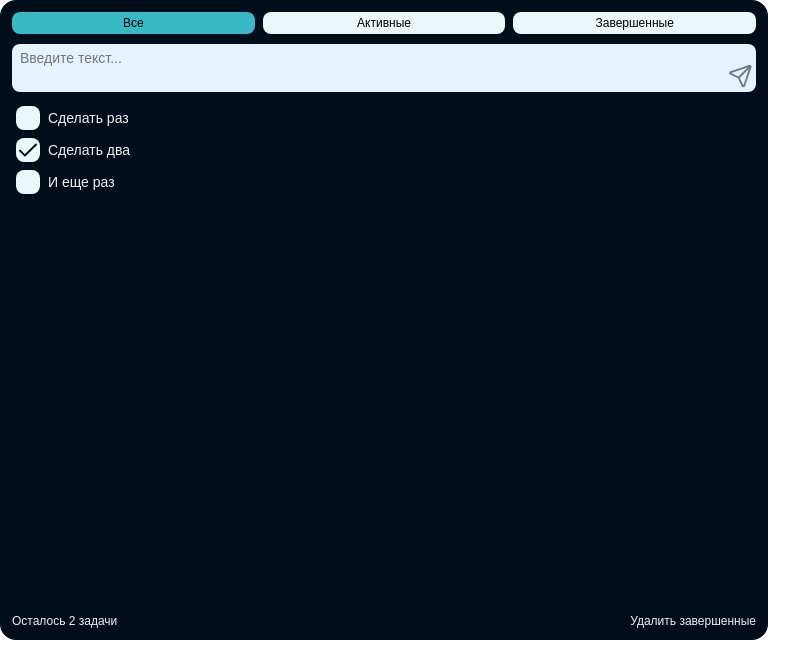
Test: Todo App › добавляет новую задачу в список через форму
In the text box with placeholder "Введите текст...": (369, 68) [12,44,725,92], type "Сделать тестовое"
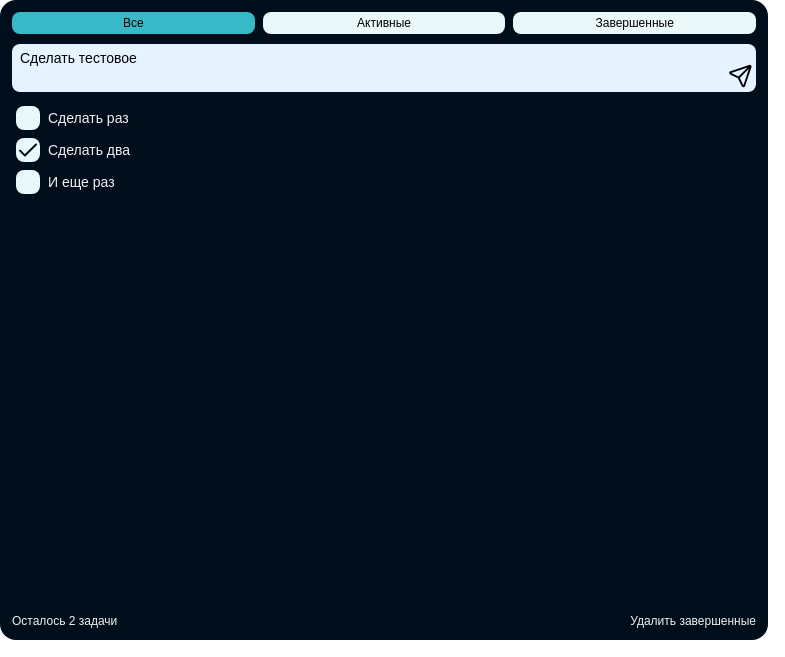
Click the button named "создать задачу": (741, 76) [725,60,756,92]
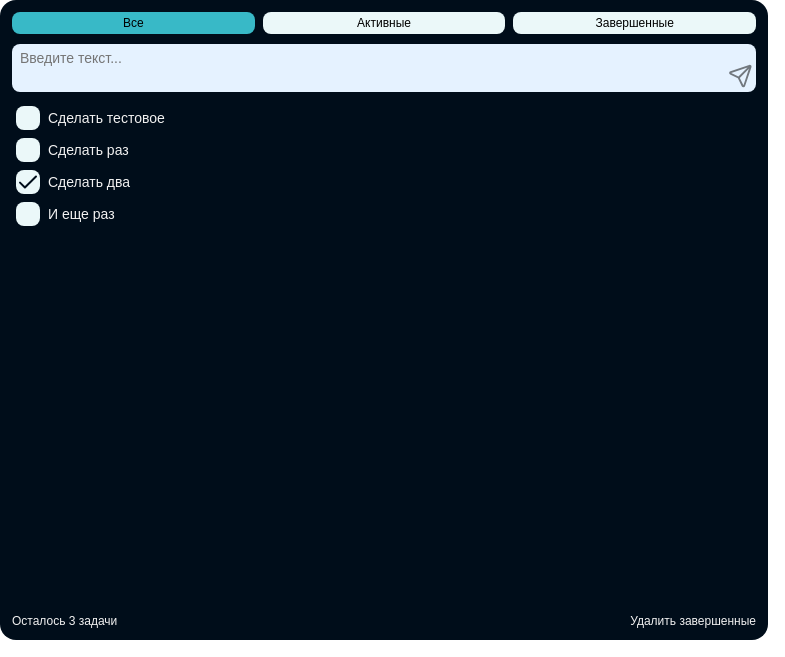
Now the text "Сделать тестовое" is shown, box [48,110,165,126]
